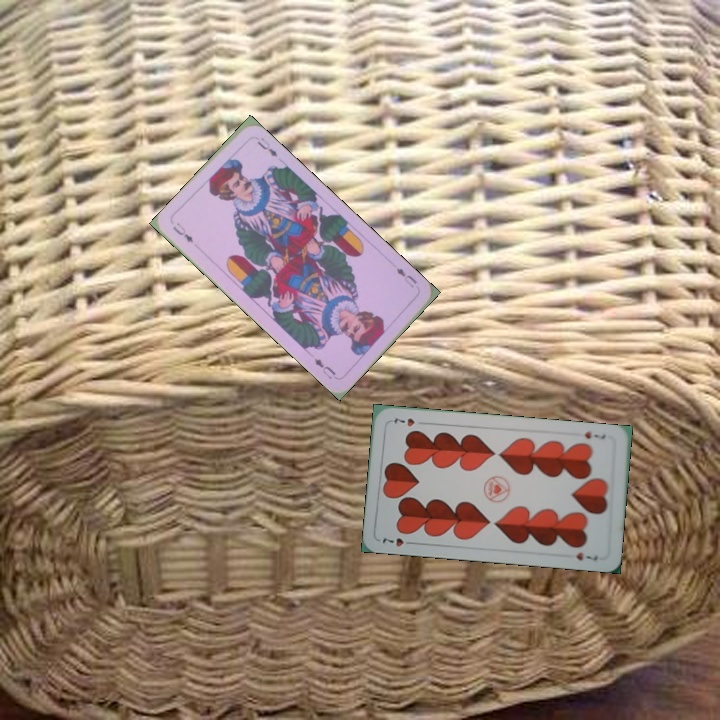EU: (392, 263, 420, 290), (169, 219, 196, 245)
H7: (378, 533, 417, 549), (581, 426, 608, 442)
